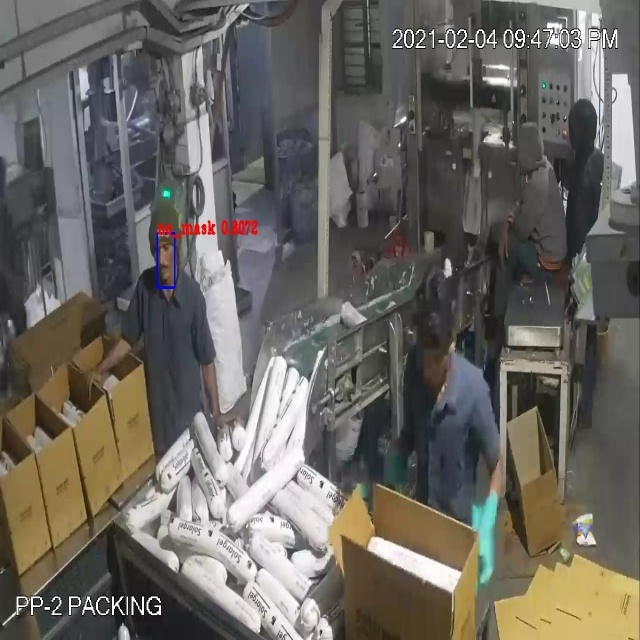Guantes: (464, 467, 499, 586)
Sin_guantes: (77, 319, 152, 410), (196, 359, 228, 436)
